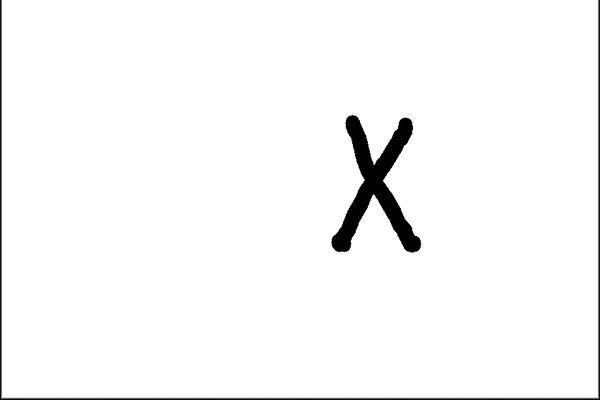X: (307, 97, 474, 274)
